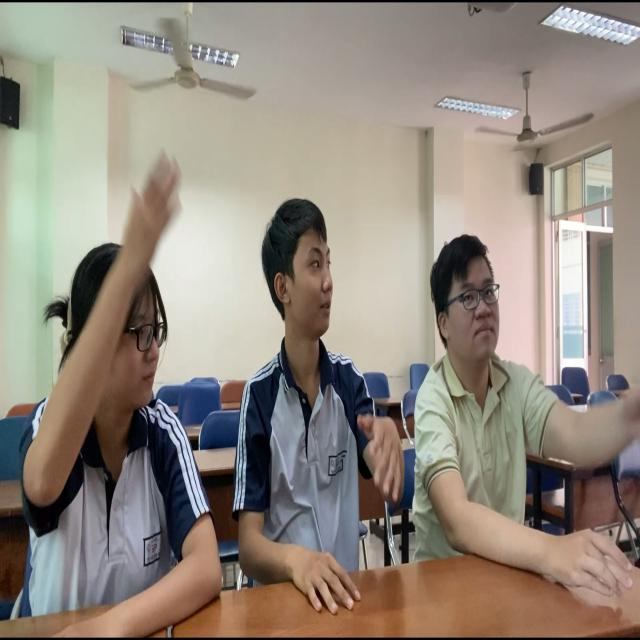raise_hand: (14, 153, 225, 638)
